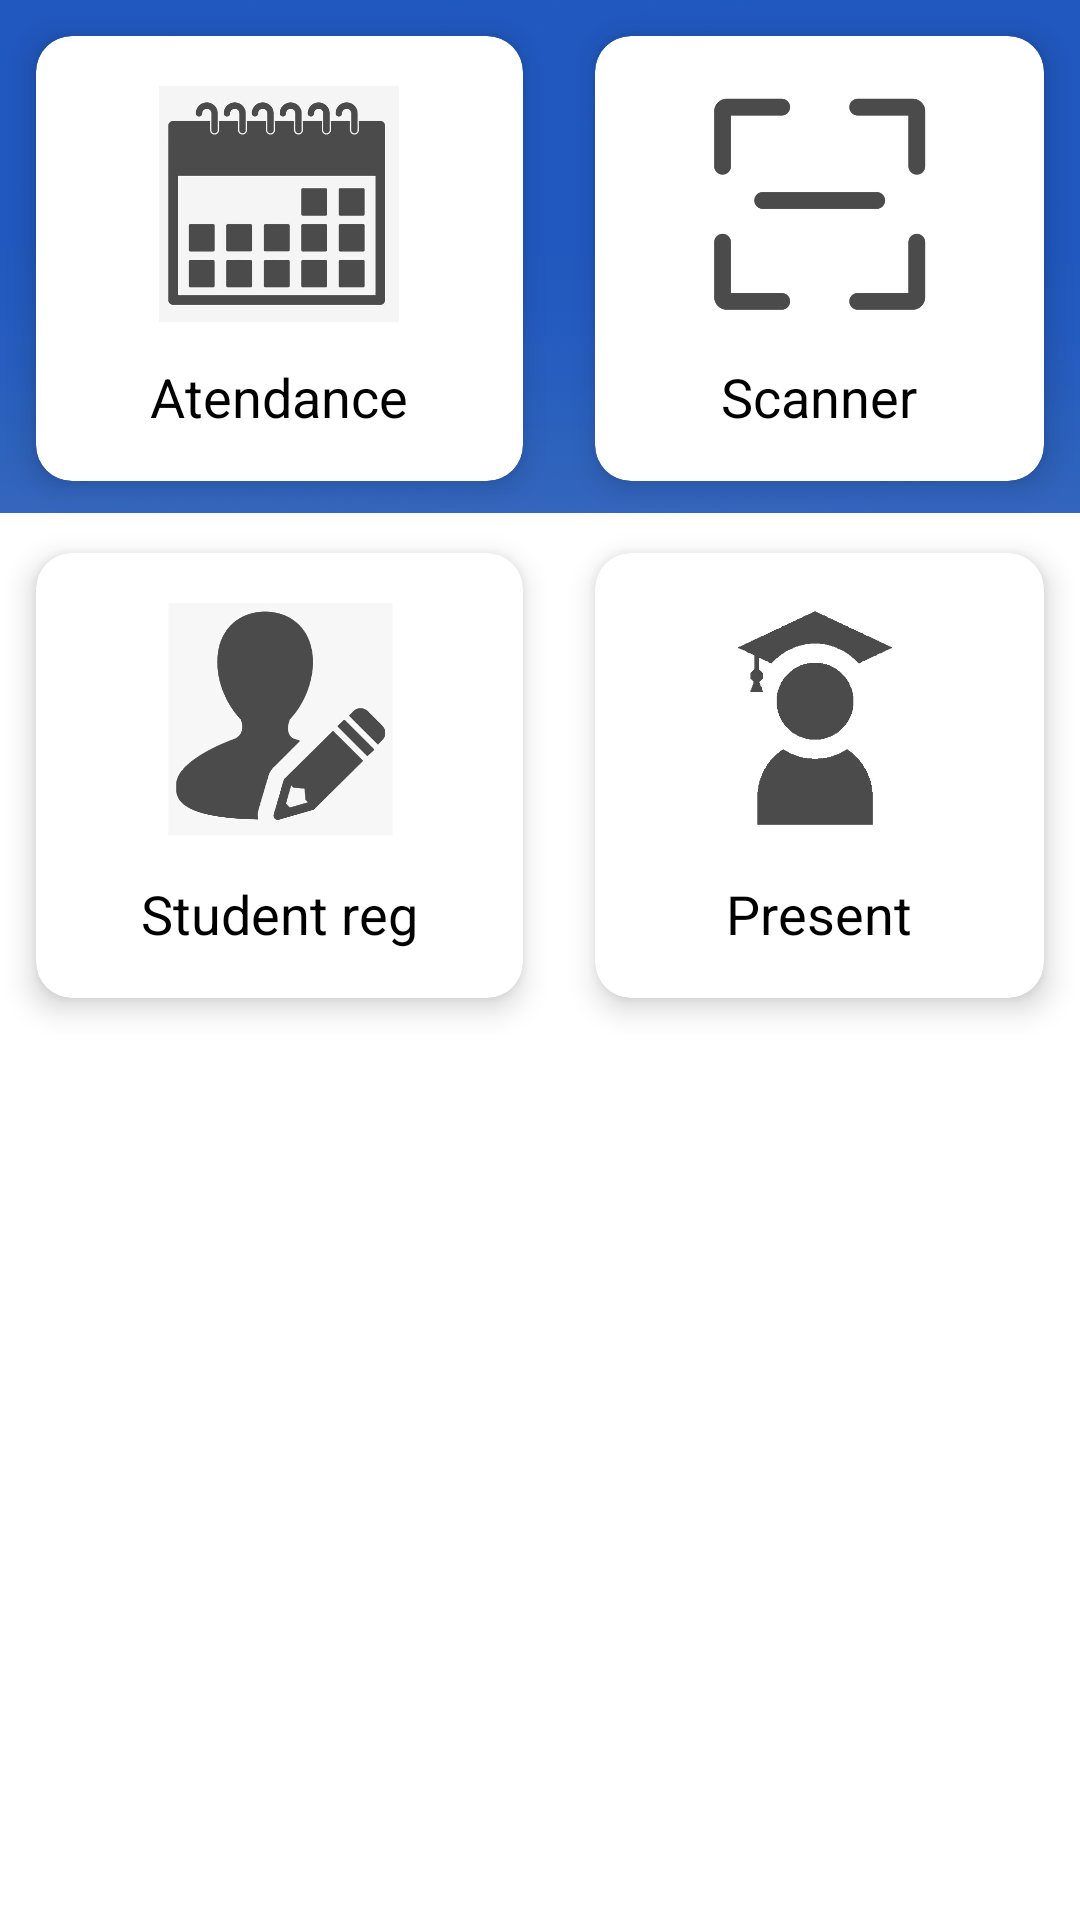

Icons on this 1080w x 1920h Android screen, each with its box as (left=x1, top=y1, right=x2, bottom=y2):
calendar: (left=168, top=102, right=385, bottom=305)
regis: (left=176, top=611, right=385, bottom=820)
